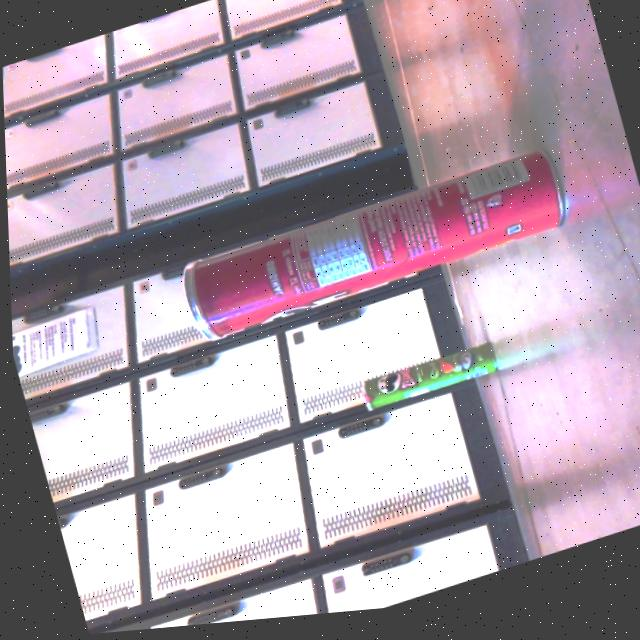greenpringles: (337, 329, 514, 442)
redpringles: (159, 134, 590, 364)
